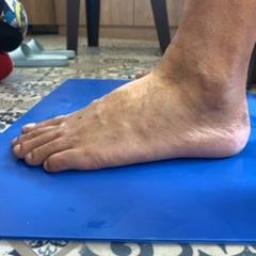Lateral View -Left Foot-: (2, 45, 253, 181)
